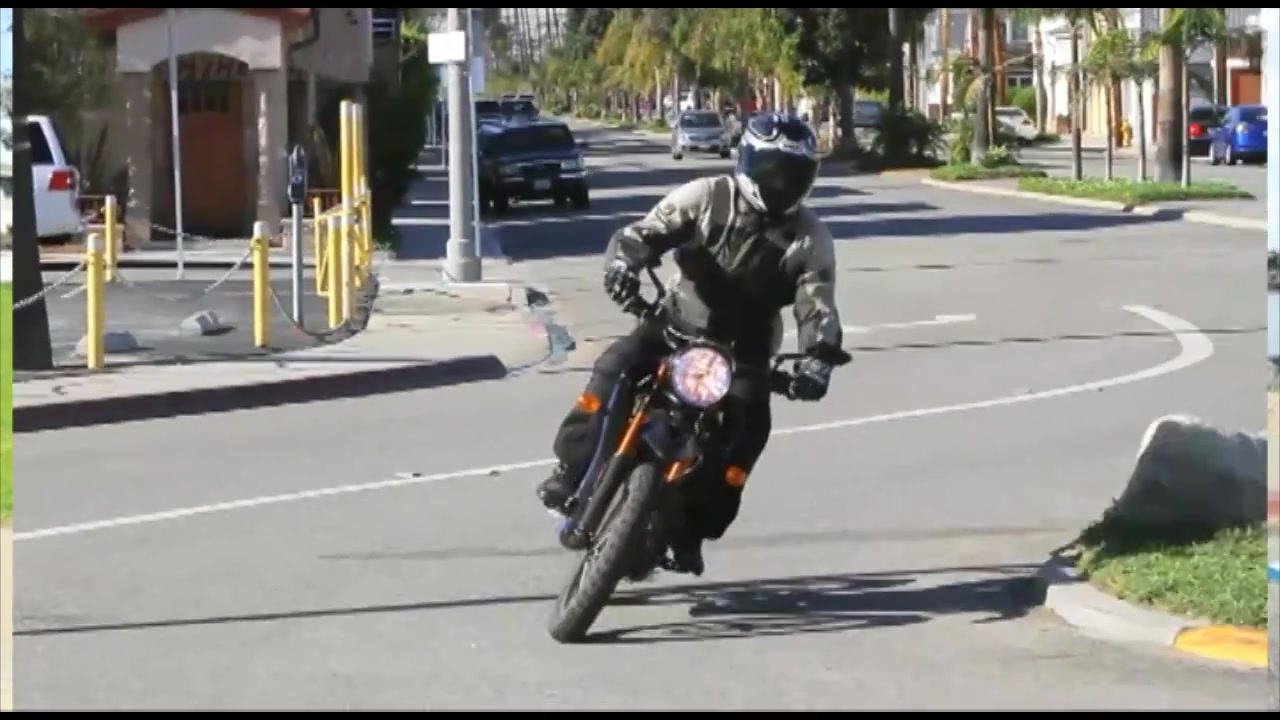motorbike: (550, 258, 856, 643)
